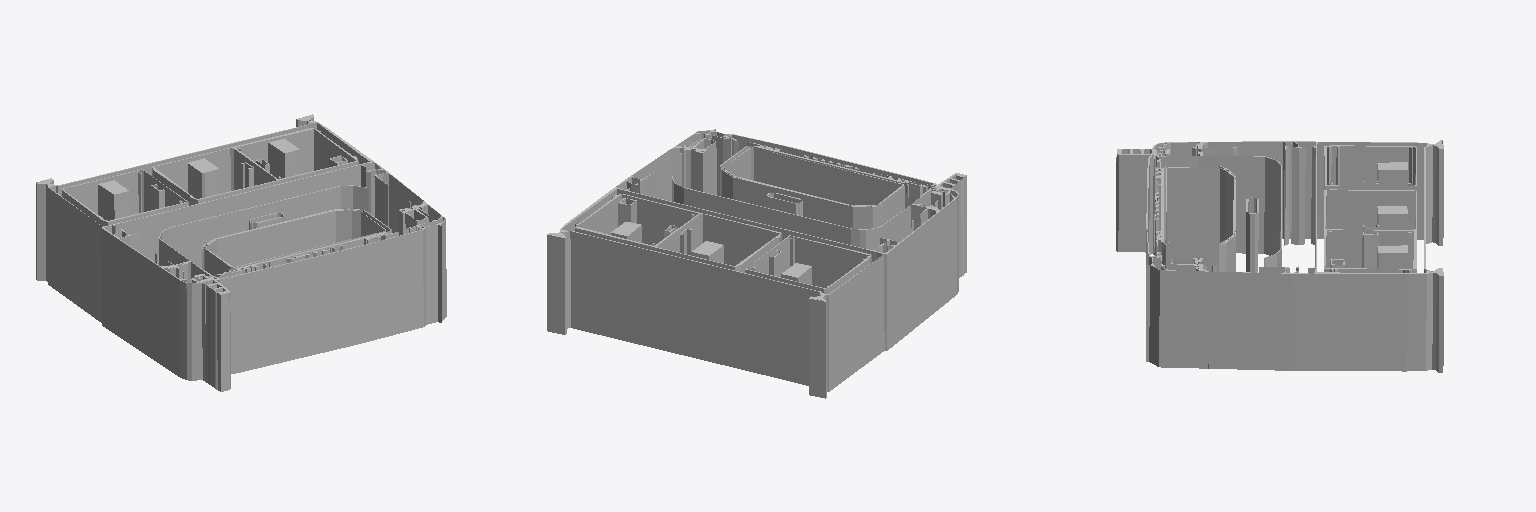
The model's file is smt.obj.
The picture shows the model from 3 angles: view 1: azimuth 30°, elevation 25°; view 2: azimuth 150°, elevation 25°; view 3: azimuth 270°, elevation 25°; orthographic projection.
Visible parts, largest first — view 1: Object.1, Object.18, Object.24, Object.33, Object.2, Object.30, Object.57, Object.38, Object.26, Object.9, Object.48; view 2: Object.1, Object.18, Object.24, Object.33, Object.2, Object.9, Object.57, Object.51; view 3: Object.1, Object.57, Object.18, Object.2, Object.24, Object.33, Object.46, Object.51, Object.23, Object.30, Object.38, Object.26 (+2 smaller).
Part boxes in pixels (bbox=[...]): Object.1: bbox=[36, 114, 434, 391]; Object.18: bbox=[202, 209, 391, 276]; Object.24: bbox=[152, 128, 358, 205]; Object.33: bbox=[62, 169, 188, 226]; Object.2: bbox=[398, 201, 446, 322]; Object.30: bbox=[188, 158, 218, 198]; Object.57: bbox=[375, 163, 419, 232]; Object.38: bbox=[98, 180, 128, 220]; Object.26: bbox=[268, 139, 299, 178]; Object.9: bbox=[217, 232, 398, 277]; Object.48: bbox=[374, 174, 387, 225]; Object.1: bbox=[547, 132, 966, 398]; Object.18: bbox=[720, 146, 904, 228]; Object.24: bbox=[575, 194, 781, 272]; Object.33: bbox=[745, 235, 871, 293]; Object.2: bbox=[671, 129, 716, 200]; Object.9: bbox=[747, 142, 927, 208]; Object.57: bbox=[616, 152, 666, 199]; Object.51: bbox=[767, 193, 801, 214]; Object.1: bbox=[1116, 140, 1443, 372]; Object.57: bbox=[1217, 271, 1313, 370]; Object.18: bbox=[1165, 166, 1235, 271]; Object.2: bbox=[1146, 258, 1208, 368]; Object.24: bbox=[1324, 189, 1416, 272]; Object.33: bbox=[1324, 145, 1416, 190]; Object.46: bbox=[1291, 145, 1305, 244]; Object.51: bbox=[1246, 199, 1258, 272]; Object.23: bbox=[1208, 272, 1216, 368]; Object.30: bbox=[1377, 206, 1407, 229]; Object.38: bbox=[1377, 162, 1407, 185]; Object.26: bbox=[1377, 245, 1407, 268].
Size of the model in its own units: 67.18 by 22.86 by 68.68.